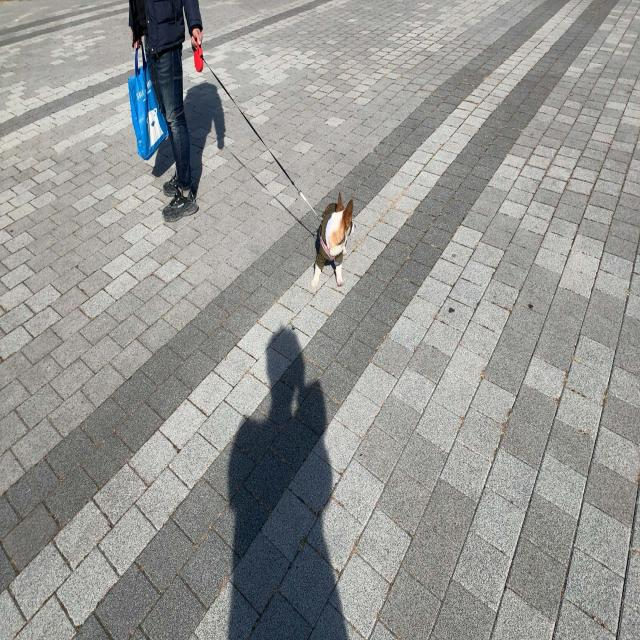Leashed_Dog: (166, 28, 358, 291)
